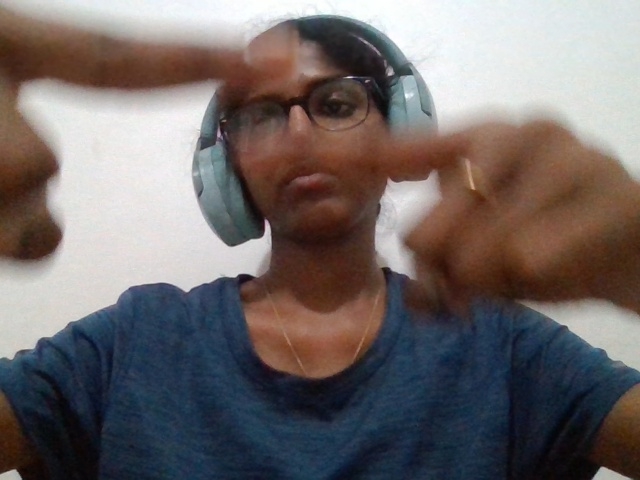Sign: (3, 4, 633, 391)
